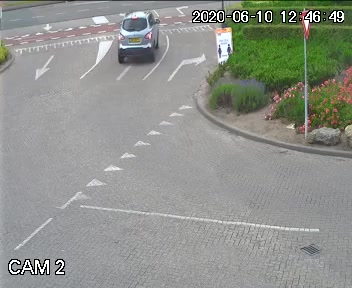car: (115, 4, 162, 78)
